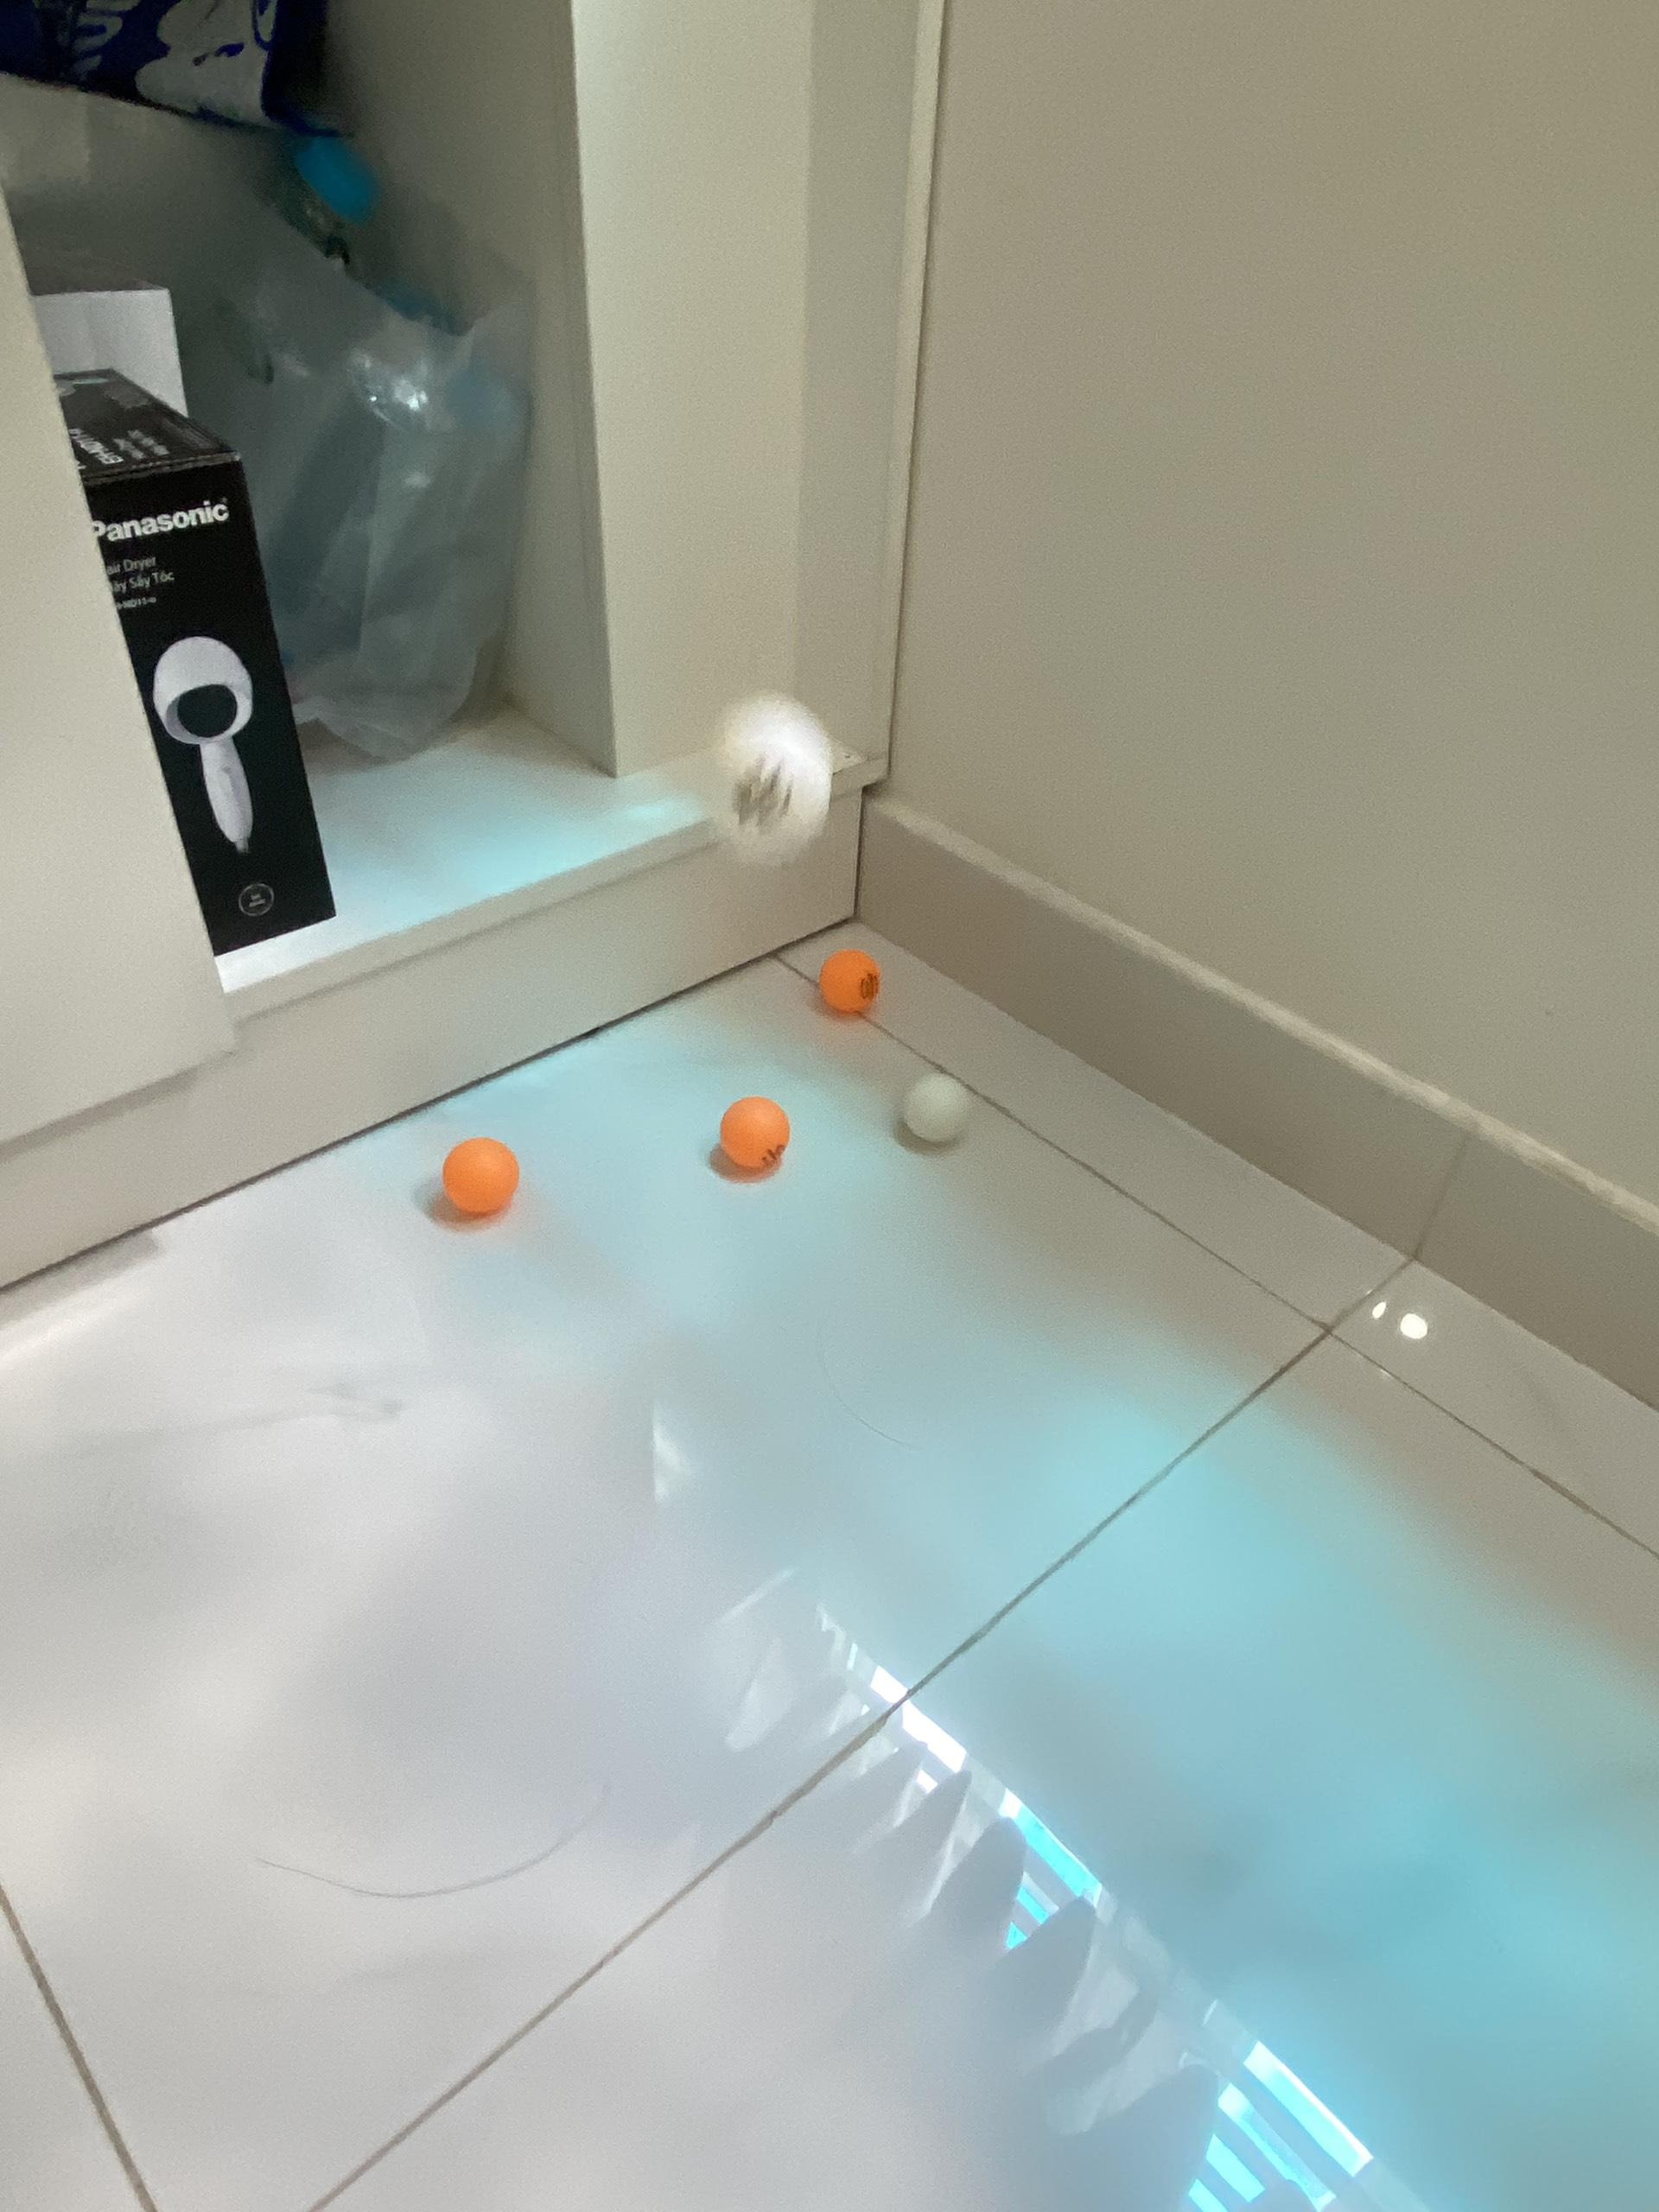oball: (720, 1089, 795, 1172), (450, 1136, 521, 1217), (824, 951, 882, 1017)
